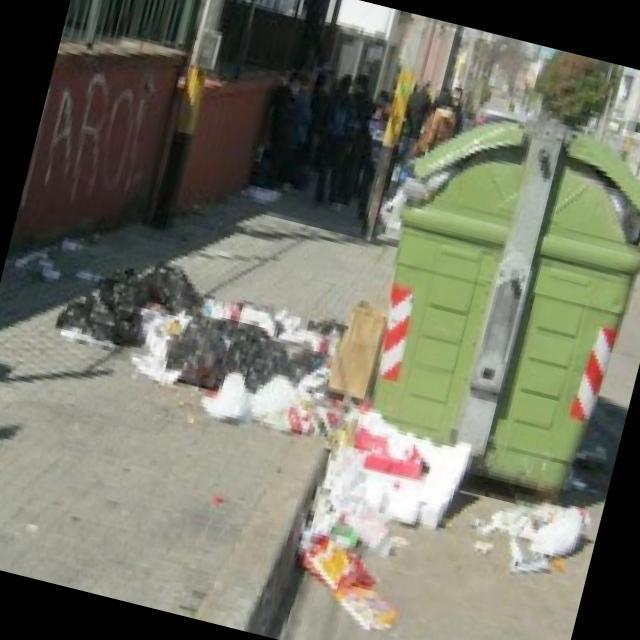garbage: (56, 233, 356, 450), (276, 398, 468, 636), (481, 484, 594, 583)
